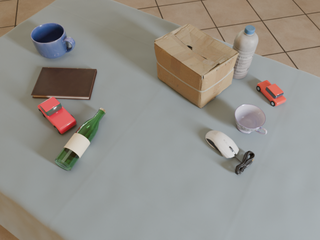book: (31, 67, 97, 100)
bottle: (55, 108, 106, 171), (232, 25, 258, 79)
box: (154, 24, 239, 108)
cup: (31, 23, 75, 58), (235, 104, 267, 134)
mouse: (206, 131, 239, 158)
toy_car: (38, 97, 76, 134), (257, 80, 286, 106)
